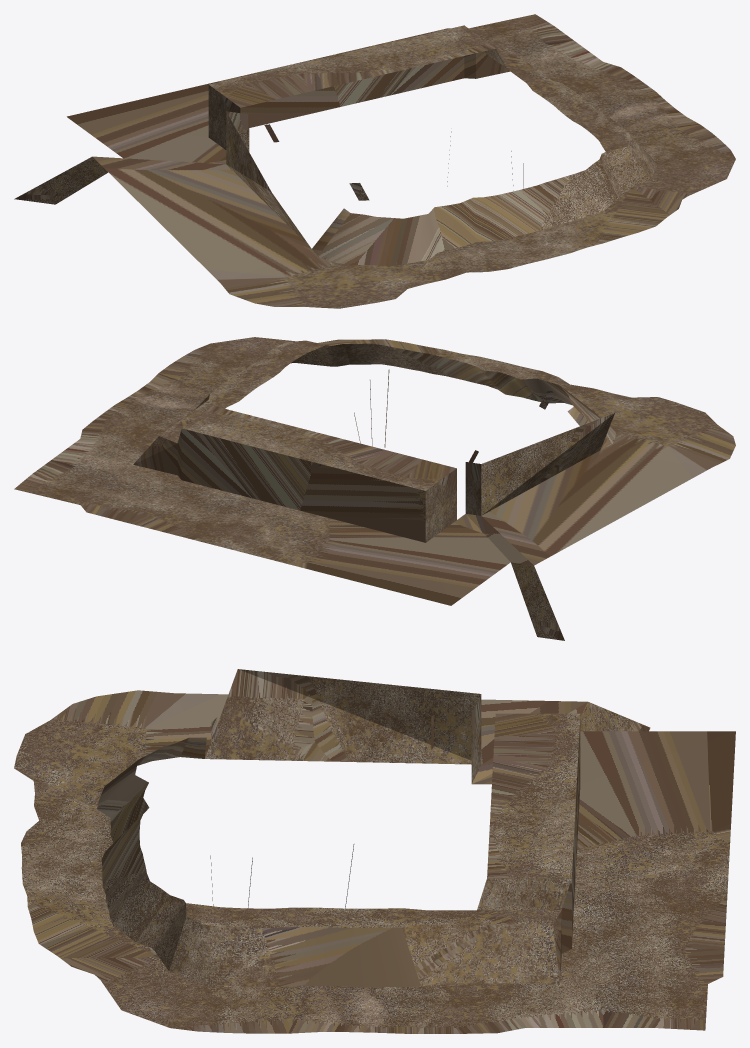
Rendered from suelo_exterior_2.obj.
The picture shows the model from 3 angles, top to bottom: view 1: azimuth 30°, elevation 25°; view 2: azimuth 150°, elevation 25°; view 3: azimuth 270°, elevation 25°; orthographic projection. The views are drawn at different scales.
Parts seen in each view (by area): view 1: suelo_exterior_2; view 2: suelo_exterior_2; view 3: suelo_exterior_2.
Boxes of the visible parts, x1=… form: suelo_exterior_2: x1=14, y1=14, x2=735, y2=308; suelo_exterior_2: x1=14, y1=337, x2=735, y2=640; suelo_exterior_2: x1=14, y1=669, x2=735, y2=1033.
Bounding box in the file's own units: 1785 × 332 × 1517.
